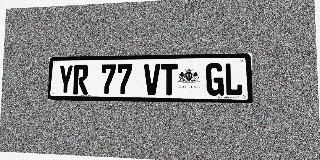7: (100, 64, 116, 95), (116, 64, 132, 95)
G: (206, 63, 224, 96)
L: (224, 63, 243, 96)
R: (73, 65, 89, 94)
T: (161, 63, 178, 95)
V: (144, 64, 160, 95)
Y: (58, 65, 73, 94)
